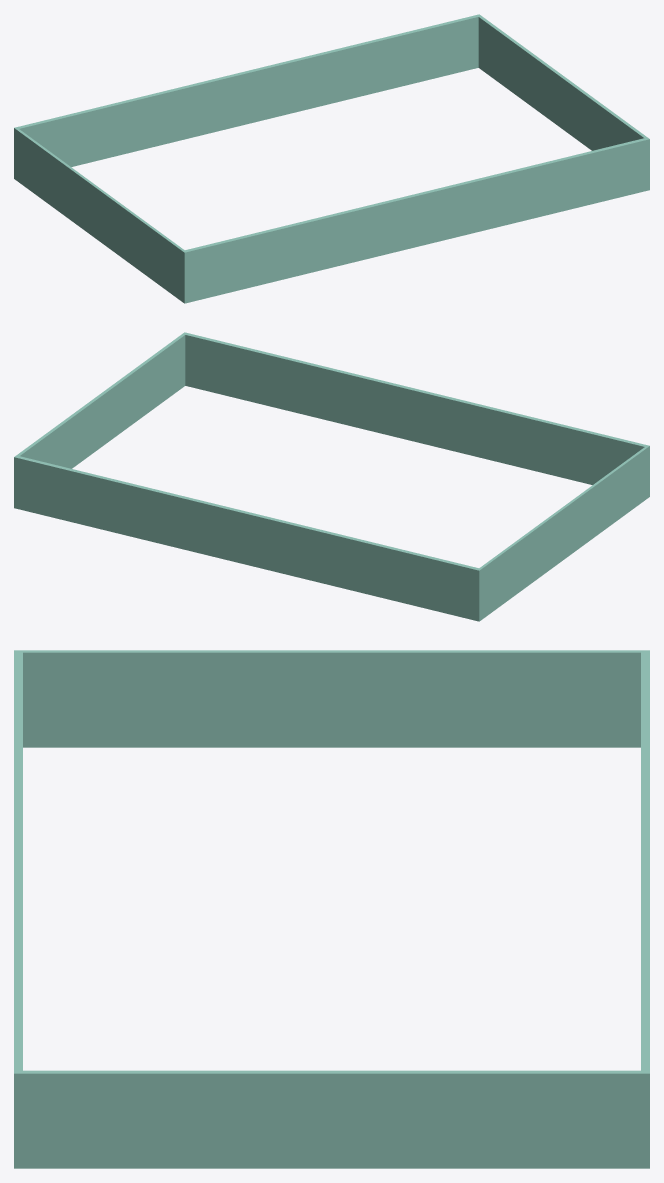
File: GlassMerchantsHouse.fbx
The picture shows the model from 3 angles, top to bottom: view 1: azimuth 30°, elevation 25°; view 2: azimuth 150°, elevation 25°; view 3: azimuth 270°, elevation 25°; orthographic projection. The views are drawn at different scales.
Visible parts, largest first — view 1: Cube.006; view 2: Cube.006; view 3: Cube.006.
Part boxes in pixels (x1=…): Cube.006: x1=14, y1=14, x2=649, y2=303; Cube.006: x1=14, y1=332, x2=649, y2=621; Cube.006: x1=14, y1=650, x2=649, y2=1168.
Bounding box in the file's own units: 2351 × 246 × 1493.
